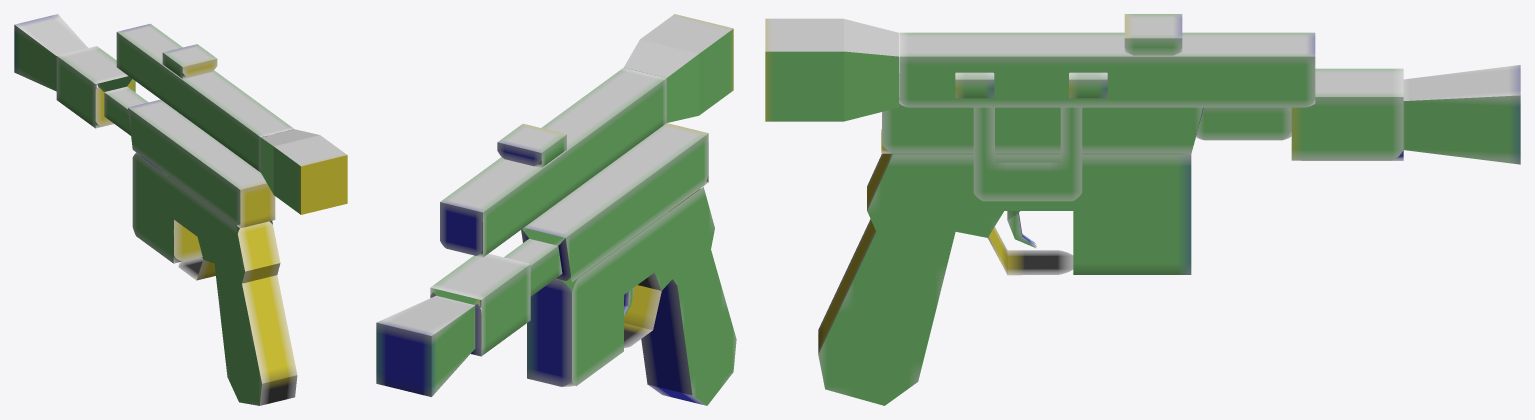
3 views of the same model, side by side, from view 1: azimuth 30°, elevation 25°; view 2: azimuth 150°, elevation 25°; view 3: azimuth 270°, elevation 25° (orthographic). The views are drawn at different scales.
Parts seen in each view (by area): view 1: pCube7; view 2: pCube7; view 3: pCube7.
Part boxes in pixels (<box>): pCube7: <box>14,14,347,405</box>; pCube7: <box>376,14,736,405</box>; pCube7: <box>765,14,1520,405</box>.
Size of the model in its own units: 0.2709 by 0.9265 by 1.64.
